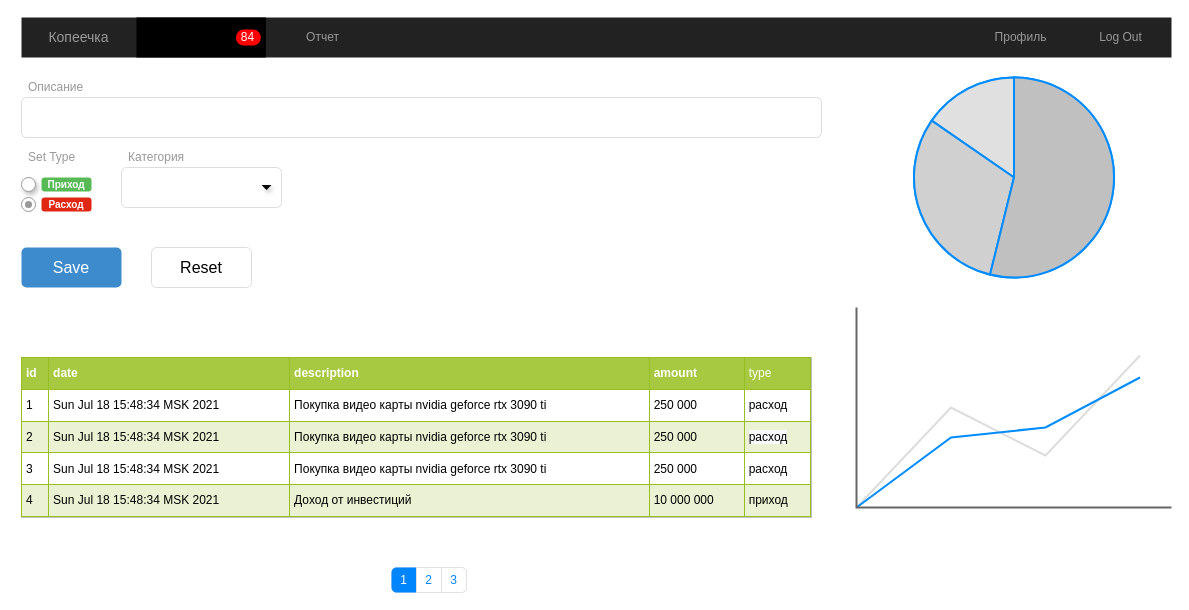
The diagram is 1189 pixels wide and 610 high, and some of its shapes have lost their labels. Each missing label, with the centre of its shape:
"История" goes at pixel 200 37.
"Покупка видео карты nvidia geforce rtx 3090 ti" goes at pixel 421 117.
"Техника" goes at pixel 201 187.
